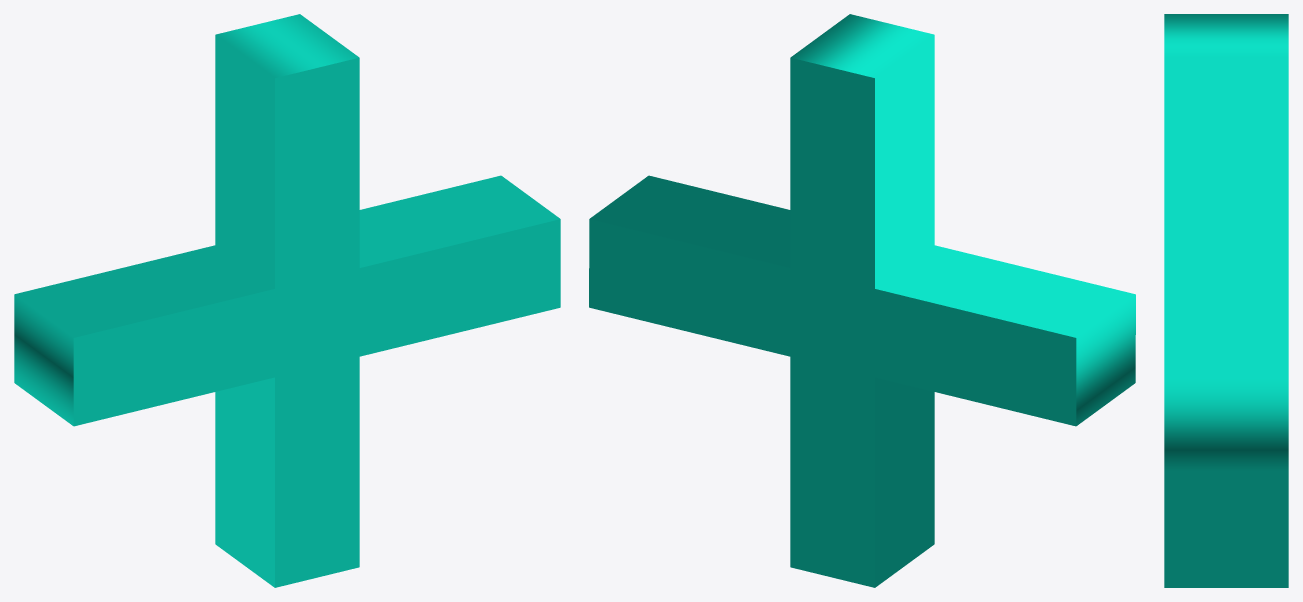
The model's file is plus-sign.fbx.
The picture shows the model from 3 angles, left to right: view 1: azimuth 30°, elevation 25°; view 2: azimuth 150°, elevation 25°; view 3: azimuth 270°, elevation 25°; orthographic projection. The views are drawn at different scales.
Visible parts, largest first — view 1: PlusSymbol; view 2: PlusSymbol; view 3: PlusSymbol.
Part boxes in pixels (bbox=[...]): PlusSymbol: bbox=[14, 14, 560, 587]; PlusSymbol: bbox=[589, 14, 1135, 587]; PlusSymbol: bbox=[1164, 14, 1288, 587].
Bounding box in the file's own units: 47.2 × 47.2 × 10.
